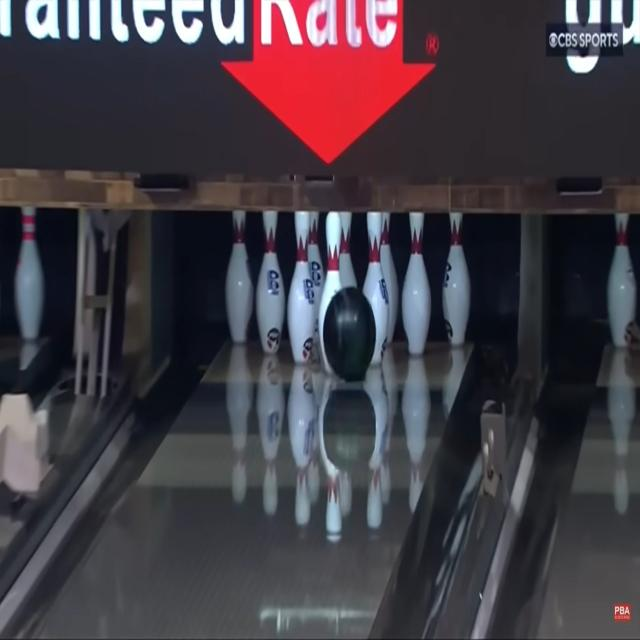alley: (36, 342, 472, 638), (366, 0, 397, 49)
balls: (322, 285, 376, 382)
bottle: (319, 211, 356, 371), (362, 211, 399, 364), (255, 211, 285, 356), (401, 211, 431, 356), (288, 211, 315, 364), (442, 214, 470, 344), (225, 211, 249, 344)
